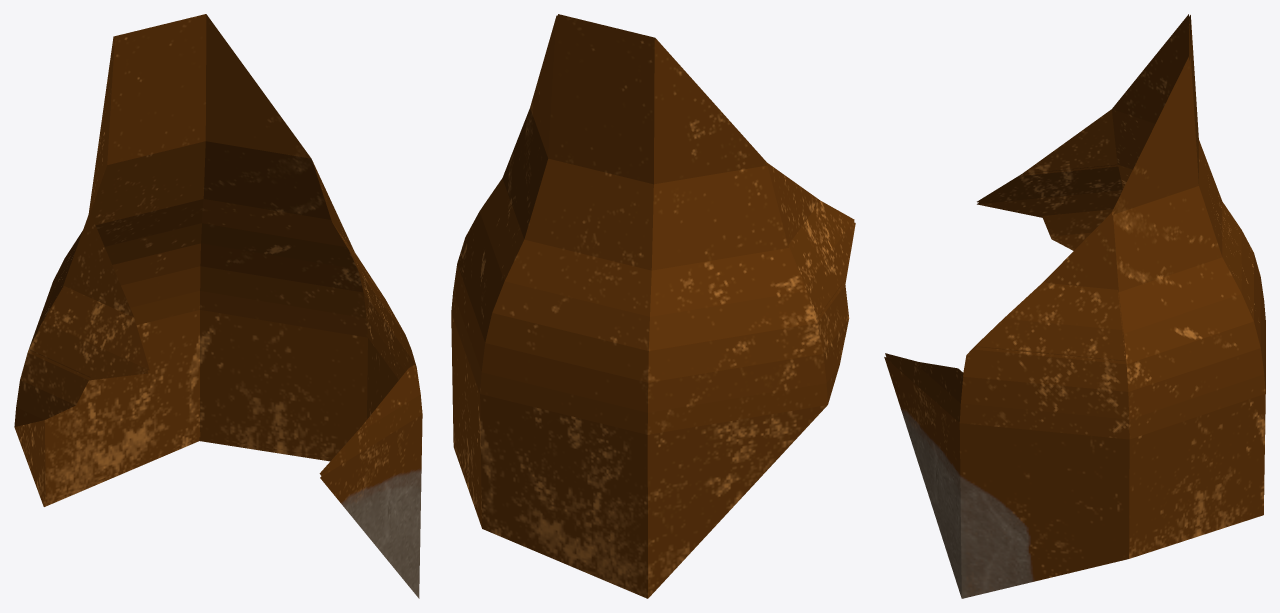
The model's file is Bottle_06.FBX.
3 views of the same model, side by side, from view 1: azimuth 30°, elevation 25°; view 2: azimuth 150°, elevation 25°; view 3: azimuth 270°, elevation 25° (orthographic). The views are drawn at different scales.
Visible parts, largest first — view 1: Object014; view 2: Object014; view 3: Object014.
Part boxes in pixels (x1,y1,x2,y2): Object014: (14, 14, 422, 598); Object014: (451, 14, 855, 598); Object014: (884, 14, 1265, 598).
Size of the model in its own units: 91.57 by 129 by 89.28.
Materials: 1 (1 with a texture image).
